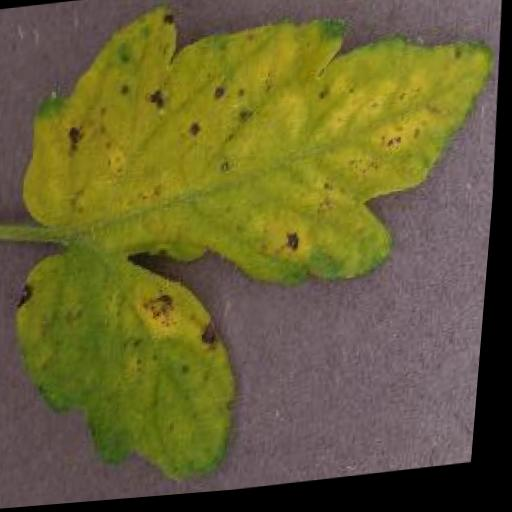Septoria: (0, 0, 510, 503)
